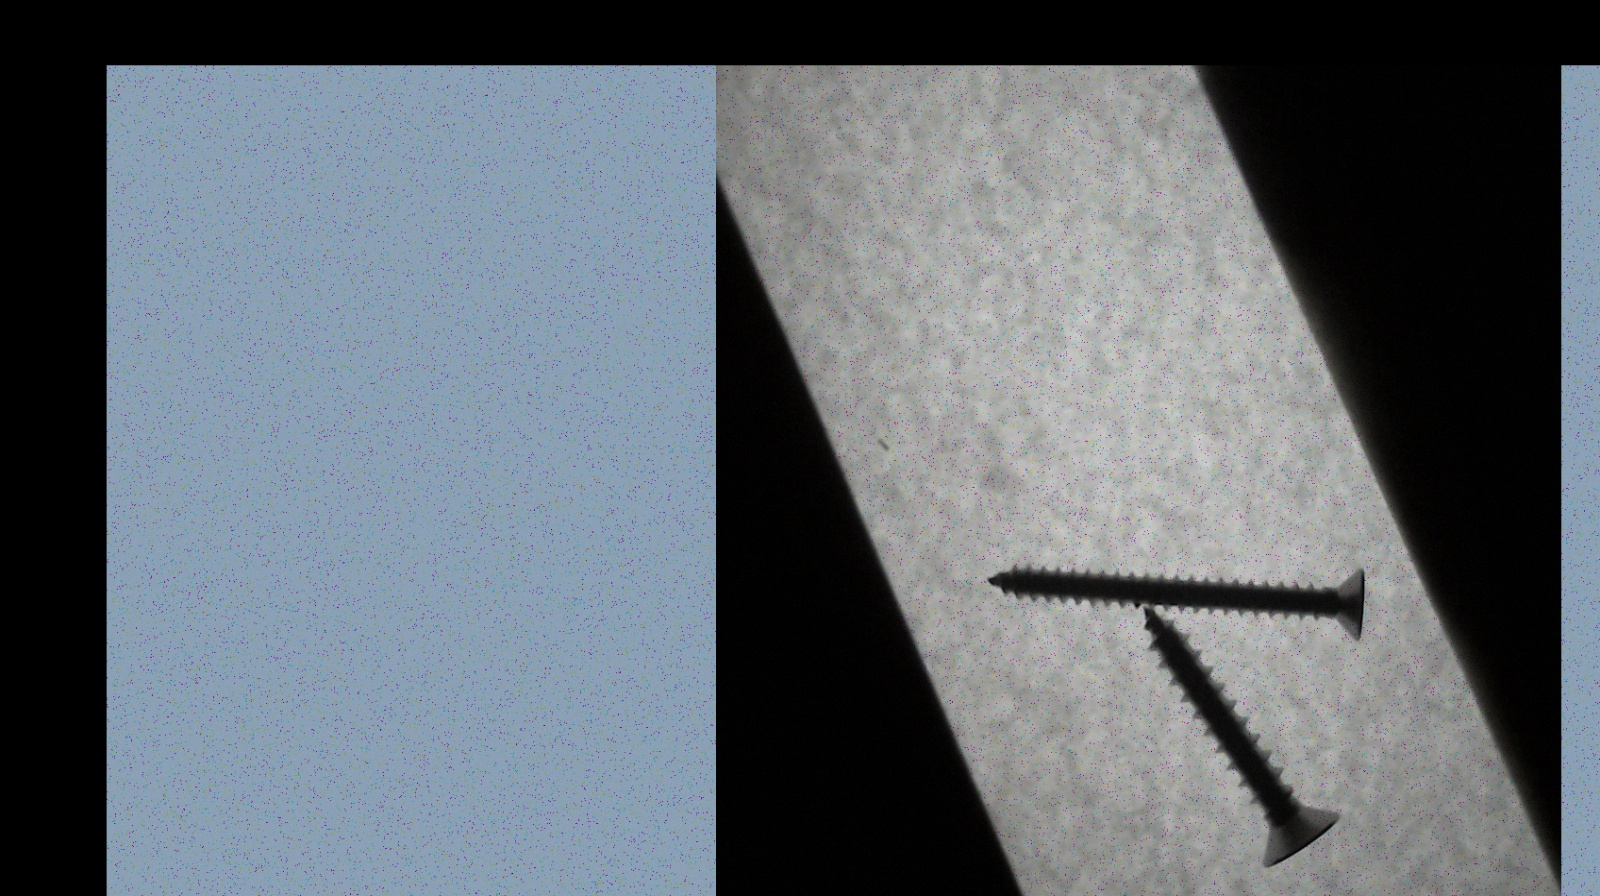S001: (1135, 598, 1345, 885)
S002: (971, 560, 1369, 644)
